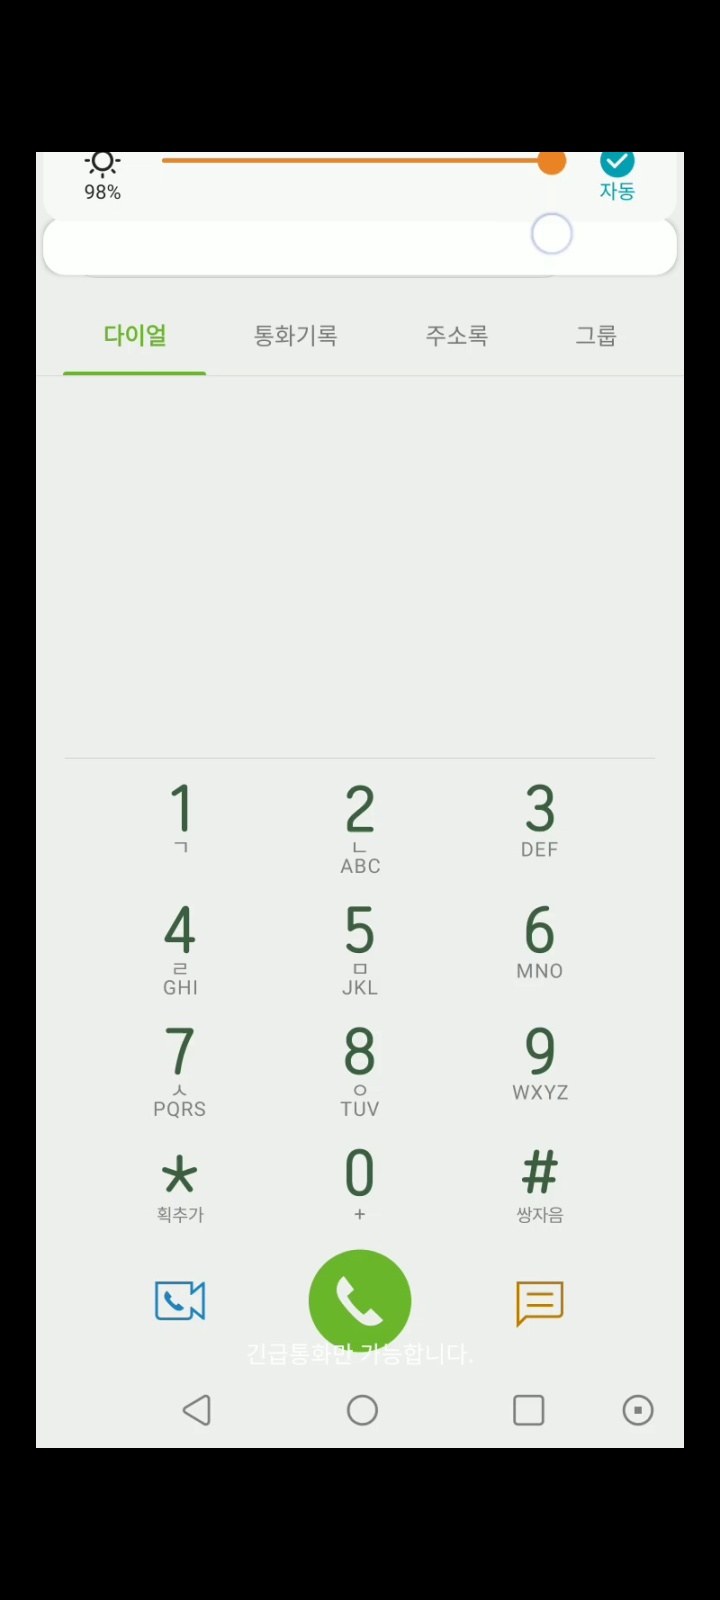Cursor: (530, 211, 575, 257)
